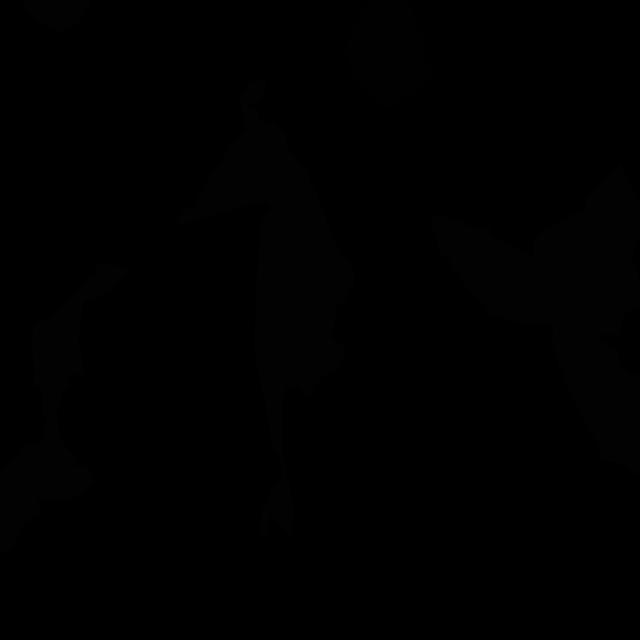cardboard: (173, 80, 355, 377), (533, 164, 640, 477), (12, 262, 130, 523), (254, 314, 346, 538), (431, 215, 572, 333), (0, 459, 26, 556), (23, 0, 92, 33)
rigid_plastic: (345, 0, 432, 109)
